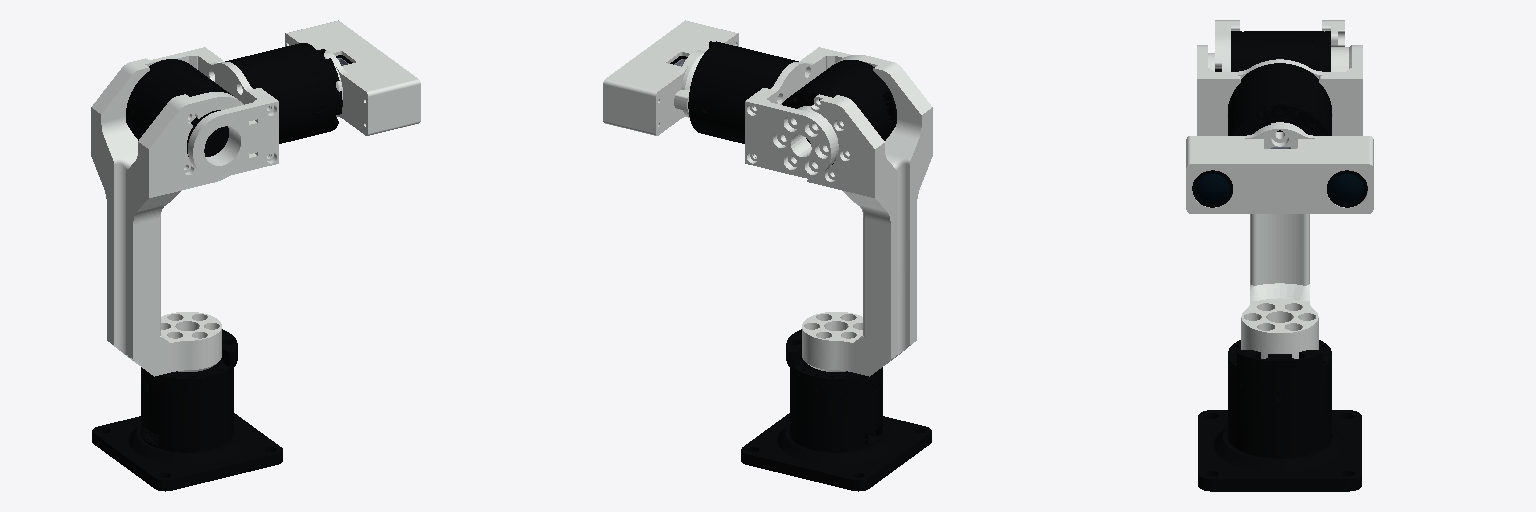
URDF robot description (bello_stereo_gimbal):
<?xml version='1.0' encoding='utf-8'?>
<robot name="bello_stereo_gimbal">
  <!-- Maintained directly. Exterior STEP meshes, primitive collisions and user-confirmed travel. No inertias are estimated. Actuator signs are in hardware.yaml; encoder zeros require commissioning. -->
  <material name="gimbal_white">
    <color rgba="0.88 0.90 0.89 1" />
  </material>
  <material name="gimbal_dark">
    <color rgba="0.055 0.060 0.065 1" />
  </material>
  <material name="gimbal_metal">
    <color rgba="0.52 0.55 0.58 1" />
  </material>
  <material name="gimbal_glass">
    <color rgba="0.035 0.085 0.12 1" />
  </material>
  <link name="gimbal_base_link">
    <visual name="base_plate">
      <geometry>
        <mesh filename="../meshes/visual/base_plate.stl" />
      </geometry>
      <material name="gimbal_dark" />
    </visual>
    <visual name="yaw_motor_housing">
      <geometry>
        <mesh filename="../meshes/visual/yaw_motor_housing.stl" />
      </geometry>
      <material name="gimbal_dark" />
    </visual>
    <collision name="mount_plate">
      <origin xyz="0 0 0.0050000000000000001" rpy="0 0 0" />
      <geometry>
        <box size="0.071999999999999995 0.071999999999999995 0.01" />
      </geometry>
    </collision>
    <collision name="yaw_motor">
      <origin xyz="0 0 0.029499999999999998" rpy="0 0 0" />
      <geometry>
        <cylinder radius="0.023" length="0.047" />
      </geometry>
    </collision>
    <visual name="yaw_stop">
      <geometry>
        <mesh filename="../meshes/visual/yaw_stop.stl" />
      </geometry>
      <material name="gimbal_dark" />
    </visual>
  </link>
  <link name="gimbal_yaw_link">
    <visual name="yaw_frame">
      <geometry>
        <mesh filename="../meshes/visual/yaw_frame.stl" />
      </geometry>
      <material name="gimbal_white" />
    </visual>
    <visual name="pitch_bearing_collar">
      <geometry>
        <mesh filename="../meshes/visual/pitch_bearing_collar.stl" />
      </geometry>
      <material name="gimbal_dark" />
    </visual>
    <visual name="pitch_motor_housing">
      <geometry>
        <mesh filename="../meshes/visual/pitch_motor_housing.stl" />
      </geometry>
      <material name="gimbal_dark" />
    </visual>
    <collision name="yaw_output_mount">
      <origin xyz="-0.001325 0 0.002" rpy="0 0 0" />
      <geometry>
        <box size="0.052200000000000003 0.038199999999999998 0.01" />
      </geometry>
    </collision>
    <collision name="rear_stanchion">
      <origin xyz="-0.03015 0 0.055" rpy="0 0 0" />
      <geometry>
        <box size="0.0166 0.025999999999999999 0.10000000000000001" />
      </geometry>
    </collision>
    <collision name="pitch_motor">
      <origin xyz="-0.001 0 0.128" rpy="1.5707963267948966 0 0" />
      <geometry>
        <cylinder radius="0.0235" length="0.057" />
      </geometry>
    </collision>
  </link>
  <link name="gimbal_pitch_link">
    <visual name="roll_motor_mount">
      <geometry>
        <mesh filename="../meshes/visual/roll_motor_mount.stl" />
      </geometry>
      <material name="gimbal_white" />
    </visual>
    <visual name="pitch_carrier_left">
      <geometry>
        <mesh filename="../meshes/visual/pitch_carrier_left.stl" />
      </geometry>
      <material name="gimbal_white" />
    </visual>
    <visual name="pitch_carrier_right">
      <geometry>
        <mesh filename="../meshes/visual/pitch_carrier_right.stl" />
      </geometry>
      <material name="gimbal_white" />
    </visual>
    <visual name="roll_motor_housing">
      <geometry>
        <mesh filename="../meshes/visual/roll_motor_housing.stl" />
      </geometry>
      <material name="gimbal_dark" />
    </visual>
    <collision name="roll_mount">
      <origin xyz="0.028000000000000001 0 0" rpy="0 0 0" />
      <geometry>
        <box size="0.0080000000000000002 0.065000000000000002 0.045999999999999999" />
      </geometry>
    </collision>
    <collision name="left_carrier">
      <origin xyz="0.0074999999999999997 0.029499999999999998 0" rpy="0 0 0" />
      <geometry>
        <box size="0.049000000000000002 0.014 0.034000000000000002" />
      </geometry>
    </collision>
    <collision name="right_carrier">
      <origin xyz="0.0074999999999999997 -0.030499999999999999 0" rpy="0 0 0" />
      <geometry>
        <box size="0.049000000000000002 0.012 0.034000000000000002" />
      </geometry>
    </collision>
    <collision name="roll_motor">
      <origin xyz="0.051499999999999997 0 0" rpy="0 1.5707963267948966 0" />
      <geometry>
        <cylinder radius="0.023" length="0.047" />
      </geometry>
    </collision>
    <visual name="roll_output_stop">
      <geometry>
        <mesh filename="../meshes/visual/roll_output_stop.stl" />
      </geometry>
      <material name="gimbal_dark" />
    </visual>
  </link>
  <link name="gimbal_roll_link">
    </link>
  <link name="stereo_camera_link">
    <visual name="camera_rear_case">
      <geometry>
        <mesh filename="../meshes/visual/camera_rear_case.stl" />
      </geometry>
      <material name="gimbal_white" />
    </visual>
    <visual name="camera_front_case">
      <geometry>
        <mesh filename="../meshes/visual/camera_front_case.stl" />
      </geometry>
      <material name="gimbal_white" />
    </visual>
    <visual name="left_lens_body">
      <geometry>
        <mesh filename="../meshes/visual/left_lens_body.stl" />
      </geometry>
      <material name="gimbal_dark" />
    </visual>
    <visual name="right_lens_body">
      <geometry>
        <mesh filename="../meshes/visual/right_lens_body.stl" />
      </geometry>
      <material name="gimbal_dark" />
    </visual>
    <visual name="left_lens">
      <geometry>
        <mesh filename="../meshes/visual/left_lens.stl" />
      </geometry>
      <material name="gimbal_glass" />
    </visual>
    <visual name="right_lens">
      <geometry>
        <mesh filename="../meshes/visual/right_lens.stl" />
      </geometry>
      <material name="gimbal_glass" />
    </visual>
    <visual name="usb_connector">
      <geometry>
        <mesh filename="../meshes/visual/usb_connector.stl" />
      </geometry>
      <material name="gimbal_metal" />
    </visual>
    <collision name="camera_box">
      <origin xyz="-0.020500000000000001 0 0" rpy="0 0 0" />
      <geometry>
        <box size="0.041000000000000002 0.082400000000000001 0.033599999999999998" />
      </geometry>
    </collision>
  </link>
  <link name="stereo_camera_optical_frame" />
  <link name="stereo_left_camera_optical_frame" />
  <link name="stereo_right_camera_optical_frame" />
  <joint name="gimbal_yaw" type="revolute">
    <parent link="gimbal_base_link" />
    <child link="gimbal_yaw_link" />
    <origin xyz="0 0 0.052999999999999999" rpy="0 0 0" />
    <axis xyz="0 0 1" />
    <limit lower="-1.5707963267948966" upper="1.5707963267948966" effort="1.0" velocity="0.2" />
  </joint>
  <joint name="gimbal_pitch" type="revolute">
    <parent link="gimbal_yaw_link" />
    <child link="gimbal_pitch_link" />
    <origin xyz="-0.001 0 0.128" rpy="0 0 0" />
    <axis xyz="0 1 0" />
    <limit lower="-1.5707963267948966" upper="1.5707963267948966" effort="1.0" velocity="0.2" />
  </joint>
  <joint name="gimbal_roll" type="revolute">
    <parent link="gimbal_pitch_link" />
    <child link="gimbal_roll_link" />
    <origin xyz="0.074999999999999997 0 0" rpy="0 0 0" />
    <axis xyz="1 0 0" />
    <limit lower="-1.5707963267948966" upper="1.5707963267948966" effort="1.0" velocity="0.2" />
  </joint>
  <joint name="stereo_camera_mount" type="fixed">
    <parent link="gimbal_roll_link" />
    <child link="stereo_camera_link" />
    <origin xyz="0.037999999999999999 0 0" rpy="0 0 0" />
  </joint>
  <joint name="stereo_camera_optical_frame_mount" type="fixed">
    <parent link="stereo_camera_link" />
    <child link="stereo_camera_optical_frame" />
    <origin xyz="0 0 0" rpy="-1.5707963267948966 0 -1.5707963267948966" />
  </joint>
  <joint name="stereo_left_camera_optical_frame_mount" type="fixed">
    <parent link="stereo_camera_link" />
    <child link="stereo_left_camera_optical_frame" />
    <origin xyz="0 0.029600000000000001 0" rpy="-1.5707963267948966 0 -1.5707963267948966" />
  </joint>
  <joint name="stereo_right_camera_optical_frame_mount" type="fixed">
    <parent link="stereo_camera_link" />
    <child link="stereo_right_camera_optical_frame" />
    <origin xyz="0 -0.029600000000000001 0" rpy="-1.5707963267948966 0 -1.5707963267948966" />
  </joint>
</robot>

--- Render facts (derived) ---
Views: 3 orthographic renders of the robot side by side, from view 1: azimuth 30°, elevation 25°; view 2: azimuth 150°, elevation 25°; view 3: azimuth 270°, elevation 25°.
Model bello_stereo_gimbal with 8 links and 7 joints (3 revolute, 4 fixed), rooted at gimbal_base_link, posed every joint at zero.
Visible links, largest first — view 1: gimbal_yaw_link, gimbal_base_link, gimbal_pitch_link, stereo_camera_link; view 2: gimbal_yaw_link, gimbal_base_link, gimbal_pitch_link, stereo_camera_link; view 3: gimbal_base_link, stereo_camera_link, gimbal_yaw_link, gimbal_pitch_link.
Boxes of the visible links, <box> form: gimbal_yaw_link: <box>91,58,243,376</box>; gimbal_base_link: <box>92,329,282,491</box>; gimbal_pitch_link: <box>157,43,342,177</box>; stereo_camera_link: <box>285,20,420,135</box>; gimbal_yaw_link: <box>782,55,932,376</box>; gimbal_base_link: <box>741,329,931,491</box>; gimbal_pitch_link: <box>688,41,849,177</box>; stereo_camera_link: <box>603,20,738,135</box>; gimbal_base_link: <box>1198,340,1361,491</box>; stereo_camera_link: <box>1186,122,1373,213</box>; gimbal_yaw_link: <box>1215,20,1344,358</box>; gimbal_pitch_link: <box>1197,45,1362,135</box>.
Size in the robot's own frame: 0.1504 by 0.0824 by 0.204 metres.
18 mesh visuals loaded from 18 distinct referenced files (18 binary STL).
